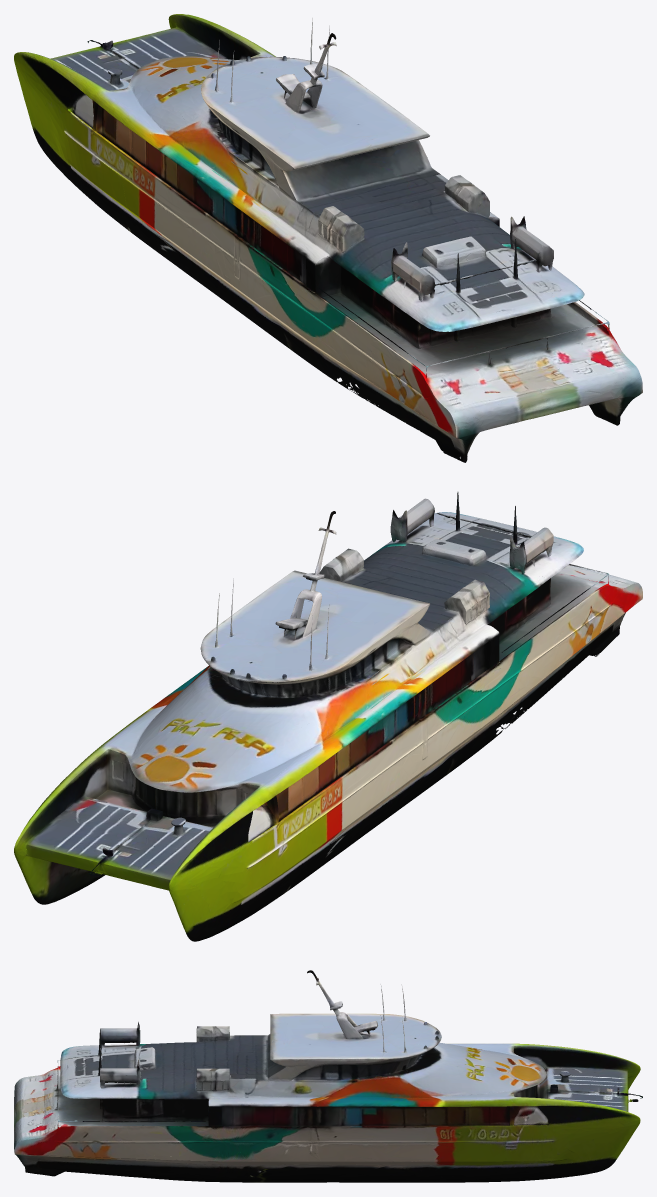
The model's file is catferry.glb.
3 views of the same model, one above another, from view 1: azimuth 30°, elevation 25°; view 2: azimuth 150°, elevation 25°; view 3: azimuth 270°, elevation 25° (orthographic). The views are drawn at different scales.
Size of the model in its own units: 16.67 by 22.93 by 70.
1 material, 1 textured.
